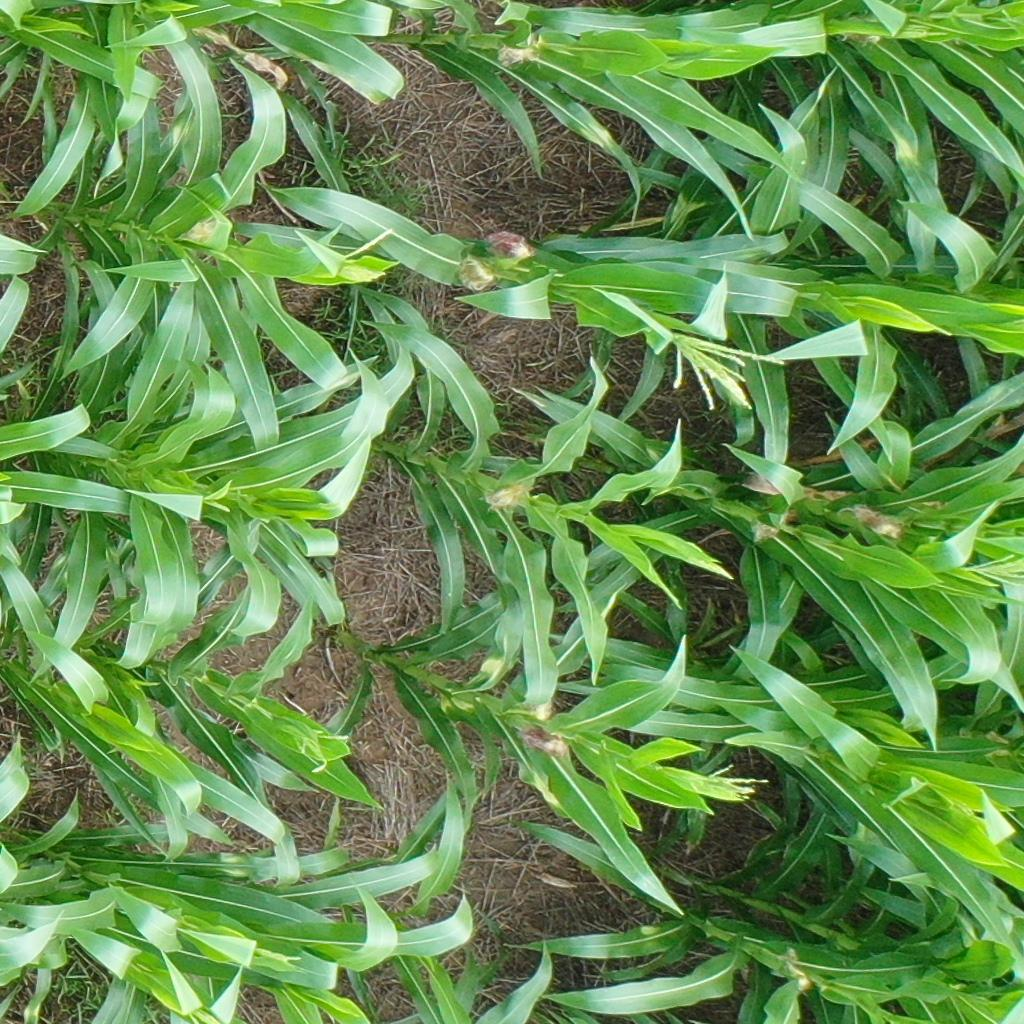Tassel: (667, 327, 786, 414), (681, 760, 773, 818), (331, 224, 391, 287), (294, 720, 351, 779), (960, 547, 1024, 589), (678, 535, 735, 581), (254, 946, 302, 970), (181, 1002, 227, 1024)
